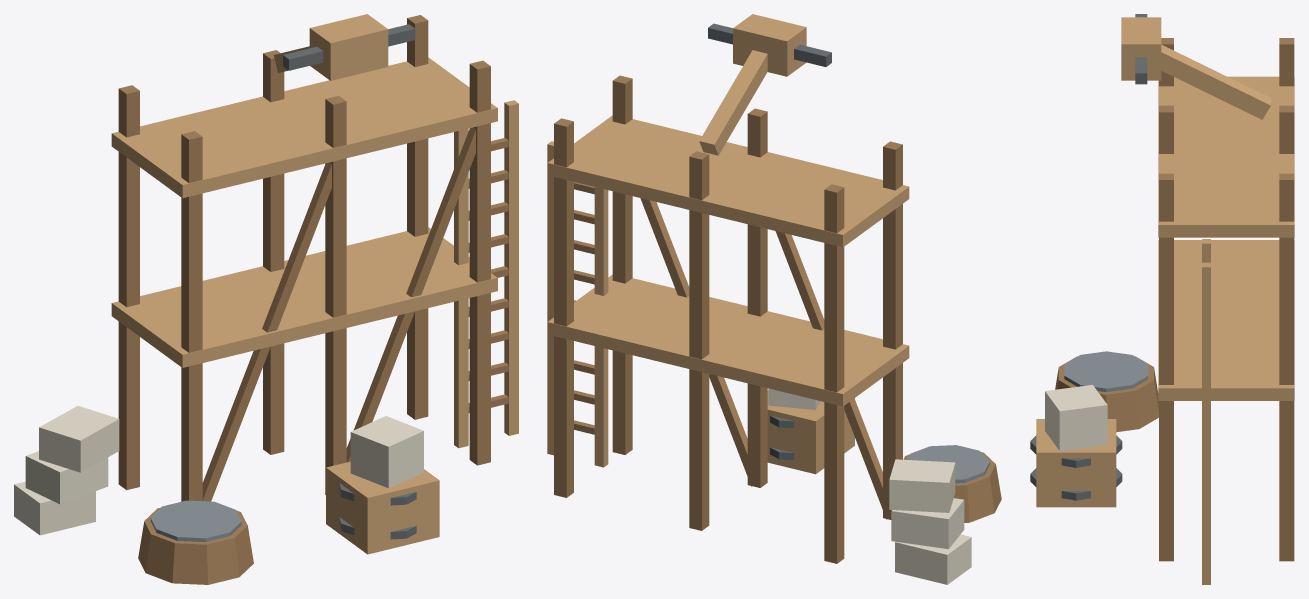
Rendered from wall-repair-scaffold-and-hoist.glb.
3 renders of one model, left to right at view 1: azimuth 30°, elevation 25°; view 2: azimuth 150°, elevation 25°; view 3: azimuth 270°, elevation 25°, orthographic. The views are drawn at different scales.
Parts seen in each view (by area): view 1: repair-scaffold-hoist, hoist-drum; view 2: repair-scaffold-hoist, hoist-drum; view 3: repair-scaffold-hoist, hoist-drum.
Boxes of the visible parts, x1=… form: repair-scaffold-hoist: x1=14, y1=15, x2=518, y2=584; hoist-drum: x1=309, y1=14, x2=388, y2=80; repair-scaffold-hoist: x1=547, y1=23, x2=1001, y2=584; hoist-drum: x1=733, y1=14, x2=806, y2=76; repair-scaffold-hoist: x1=1030, y1=14, x2=1294, y2=584; hoist-drum: x1=1121, y1=17, x2=1161, y2=80.
Bounding box in the file's own units: 5.14 × 5.08 × 2.64.
